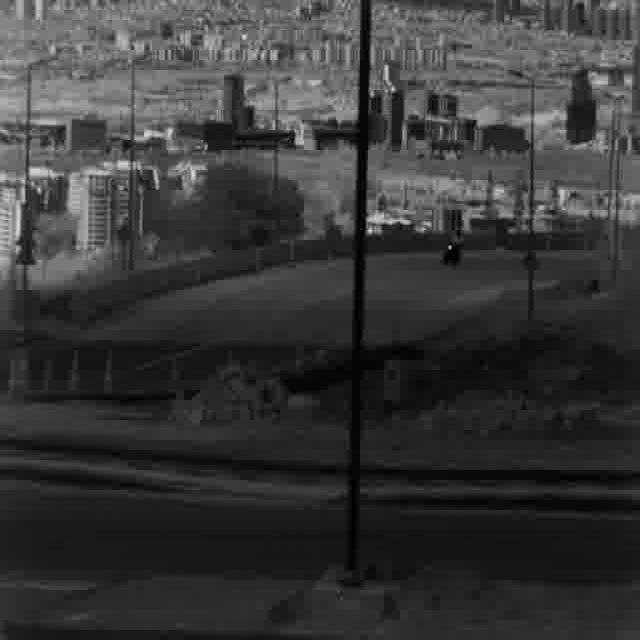Motorcycle: (439, 227, 467, 271)
